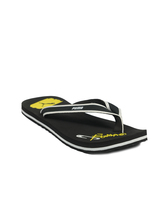shoes: (14, 85, 150, 156)
